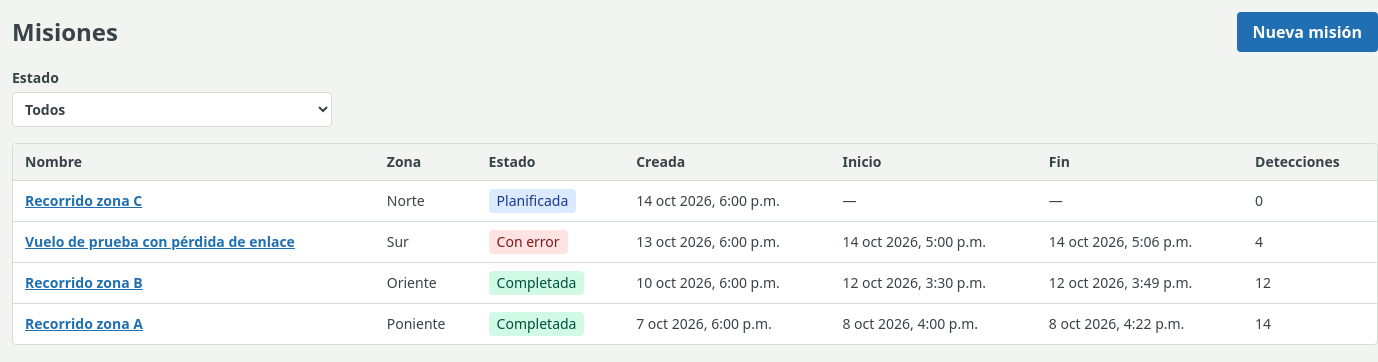
it: MissionsPage › lista misiones y filtra por estado
Step 1. Select "Planificada" in the dropdown labelled "Estado" → (172,110), box [12,92,332,127]
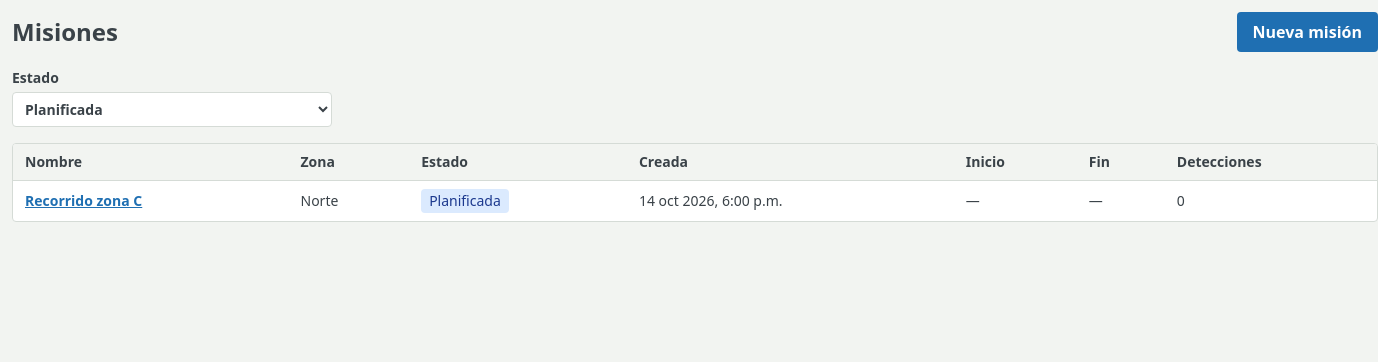
Expected: the link "Recorrido zona C" is shown, [25,191,142,210]
Expected: the link "Recorrido zona A" is gone
